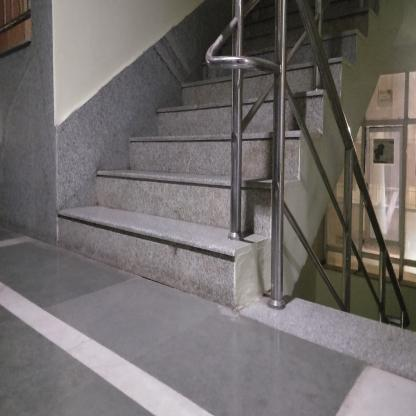stairs: (156, 99, 230, 311)
